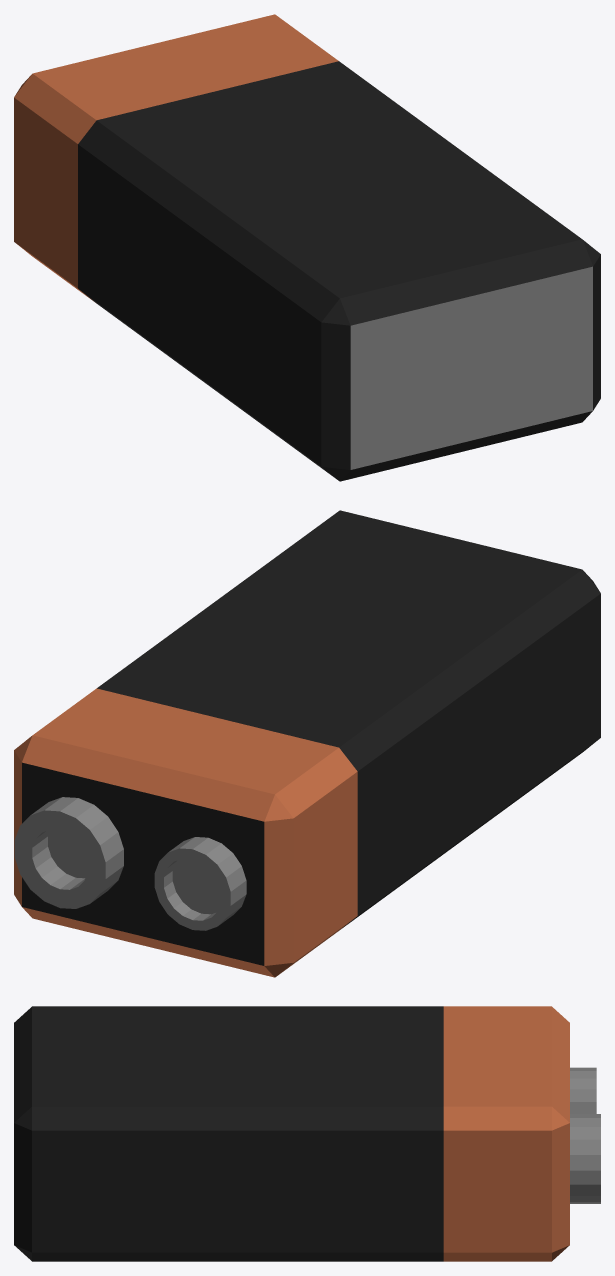
File: Battery.fbx
3 renders of one model, top to bottom at view 1: azimuth 30°, elevation 25°; view 2: azimuth 150°, elevation 25°; view 3: azimuth 270°, elevation 25°, orthographic. The views are drawn at different scales.
Parts seen in each view (by area): view 1: Battery; view 2: Battery; view 3: Battery.
Part boxes in pixels (box(x1,y1,x2,y2)): Battery: box(14, 14, 600, 481); Battery: box(14, 510, 600, 977); Battery: box(14, 1006, 600, 1261).
Bounding box in the file's own units: 256 × 160 × 550.
